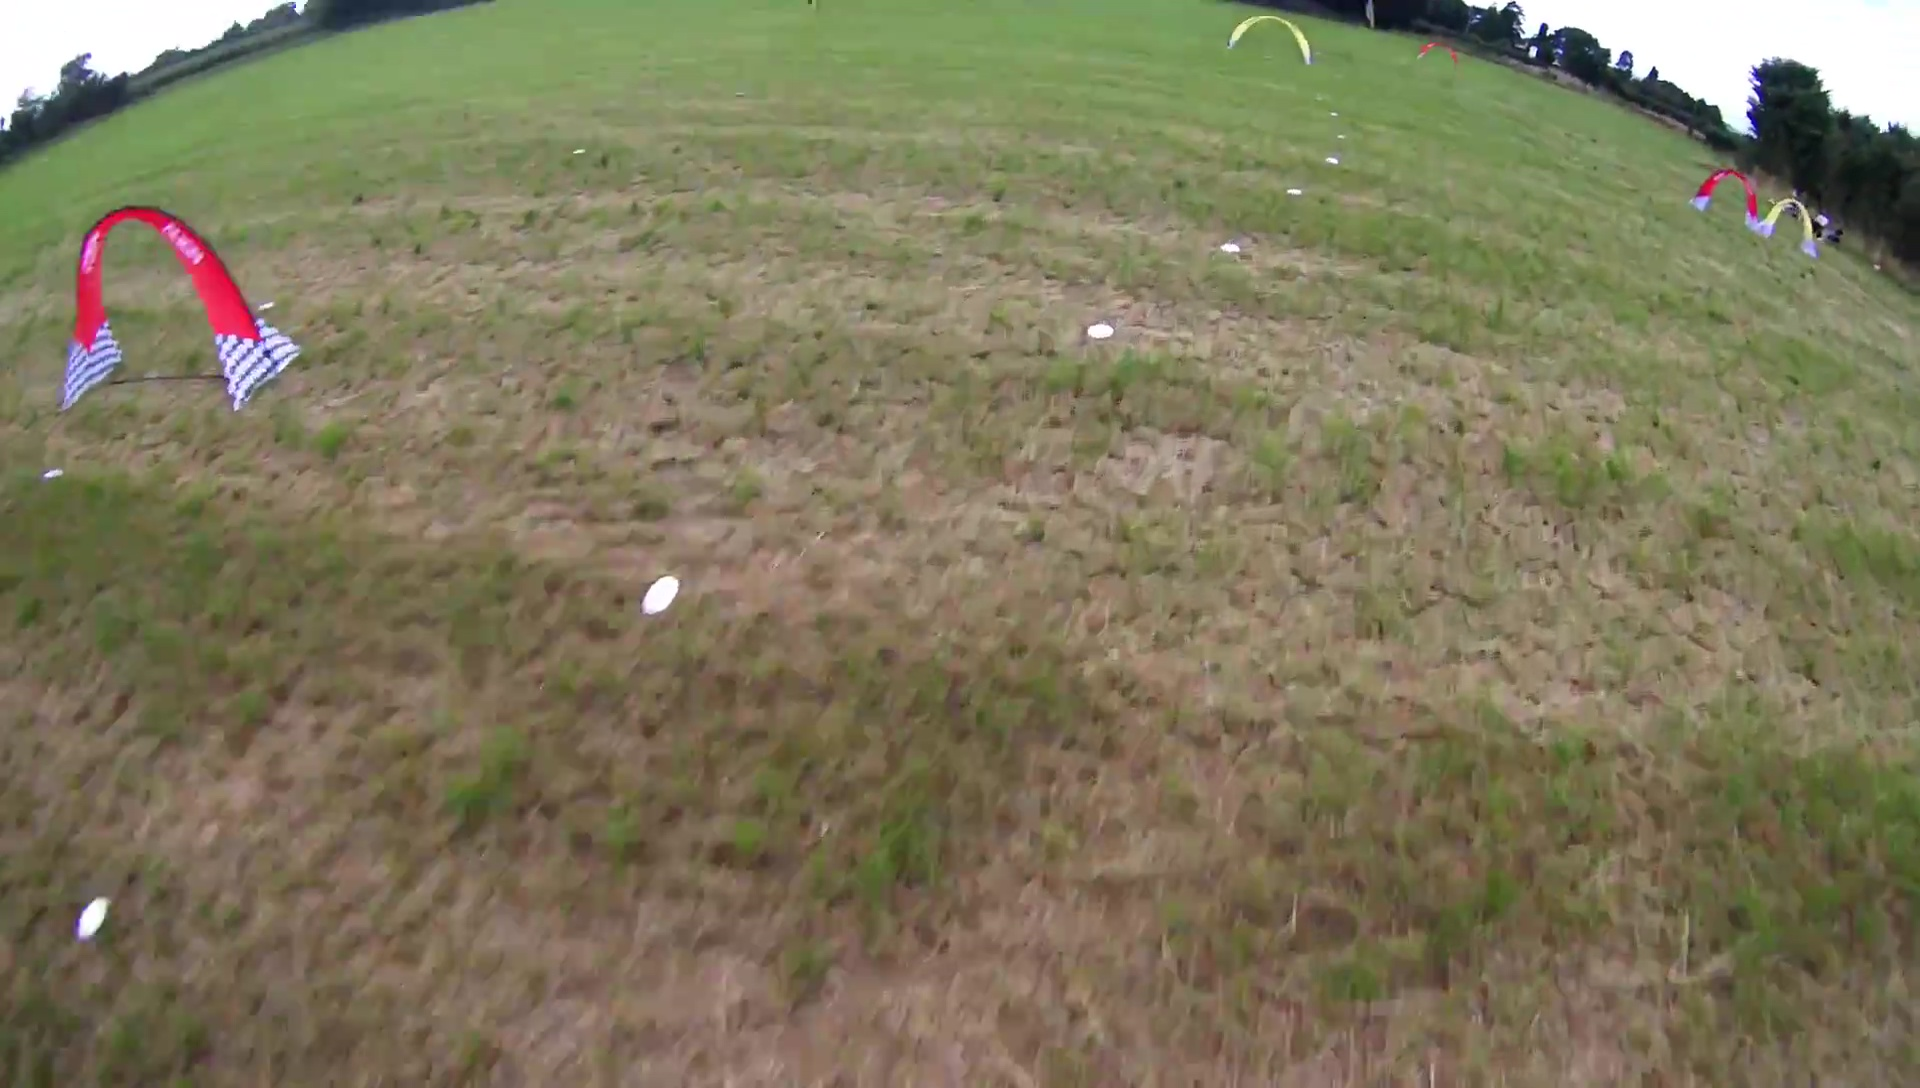gate: (55, 200, 306, 414), (1691, 164, 1760, 236), (1226, 12, 1315, 69), (1760, 196, 1820, 258)
